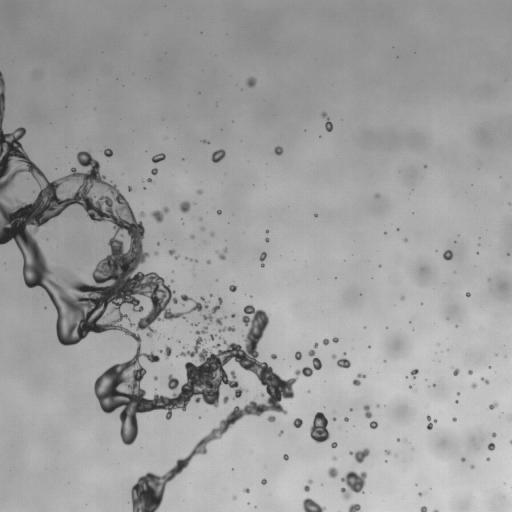droplet: (340, 470, 366, 500), (309, 412, 329, 443), (150, 206, 169, 223), (349, 448, 369, 463), (302, 498, 325, 511), (337, 352, 350, 368), (211, 149, 225, 162), (158, 345, 171, 358), (426, 415, 436, 429), (216, 248, 227, 260), (152, 153, 165, 163), (179, 201, 190, 212), (363, 405, 372, 418), (328, 467, 338, 478), (246, 77, 256, 87), (443, 250, 453, 260), (348, 504, 361, 511), (293, 418, 302, 428), (274, 146, 283, 155), (104, 148, 113, 157), (487, 442, 495, 450), (229, 284, 236, 292), (411, 369, 418, 377), (489, 402, 497, 409), (267, 415, 275, 422), (369, 421, 377, 428), (295, 351, 301, 360), (151, 168, 157, 175), (323, 338, 329, 345), (453, 368, 459, 375), (331, 442, 337, 448), (223, 396, 228, 403), (420, 506, 427, 511), (147, 178, 153, 183), (332, 337, 338, 342), (270, 354, 276, 359), (471, 382, 476, 388), (384, 450, 390, 455), (283, 454, 288, 460), (261, 478, 266, 484), (243, 488, 249, 493), (197, 189, 202, 194), (491, 432, 496, 437), (202, 139, 208, 143), (128, 186, 132, 191), (139, 212, 144, 216), (466, 292, 470, 297), (332, 354, 336, 359), (278, 431, 283, 435), (192, 323, 198, 326), (217, 210, 221, 214), (190, 235, 194, 239), (265, 237, 269, 241), (154, 251, 158, 255), (400, 296, 404, 300), (231, 313, 235, 317), (468, 370, 472, 374), (344, 417, 348, 421), (452, 417, 456, 421), (332, 456, 336, 460), (461, 457, 465, 461), (486, 457, 490, 461), (374, 194, 379, 197), (199, 217, 202, 221), (210, 232, 213, 236), (154, 376, 157, 380), (470, 465, 474, 468), (433, 509, 438, 511), (201, 227, 204, 230), (265, 230, 268, 233), (404, 238, 407, 241), (207, 260, 210, 263), (333, 417, 336, 420), (419, 492, 422, 495), (509, 416, 511, 420), (314, 214, 317, 216), (209, 294, 212, 296), (409, 386, 412, 388), (457, 392, 459, 395), (455, 400, 457, 403), (350, 408, 352, 411), (233, 496, 235, 499), (424, 165, 426, 167), (171, 280, 173, 282), (489, 366, 491, 368), (394, 454, 396, 456)
ligament: (0, 71, 318, 511), (322, 112, 333, 132), (352, 373, 365, 385), (168, 249, 179, 259), (259, 252, 266, 267), (304, 479, 312, 491), (481, 377, 489, 384), (188, 258, 197, 262), (510, 440, 511, 443)
